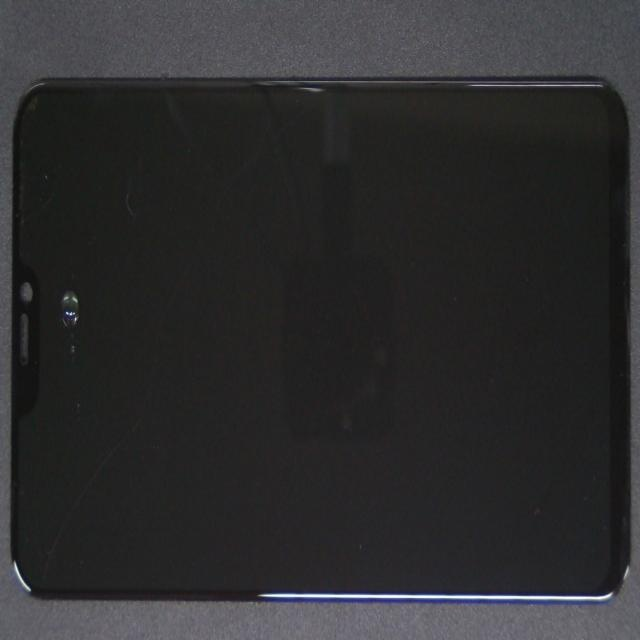oil: (51, 173, 129, 451)
